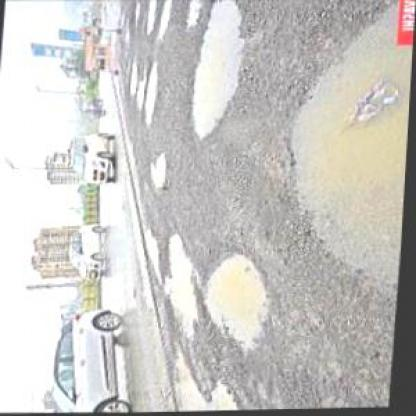pothole: (202, 250, 274, 348), (158, 233, 208, 333), (141, 61, 161, 123), (147, 150, 169, 188), (126, 57, 137, 94)
